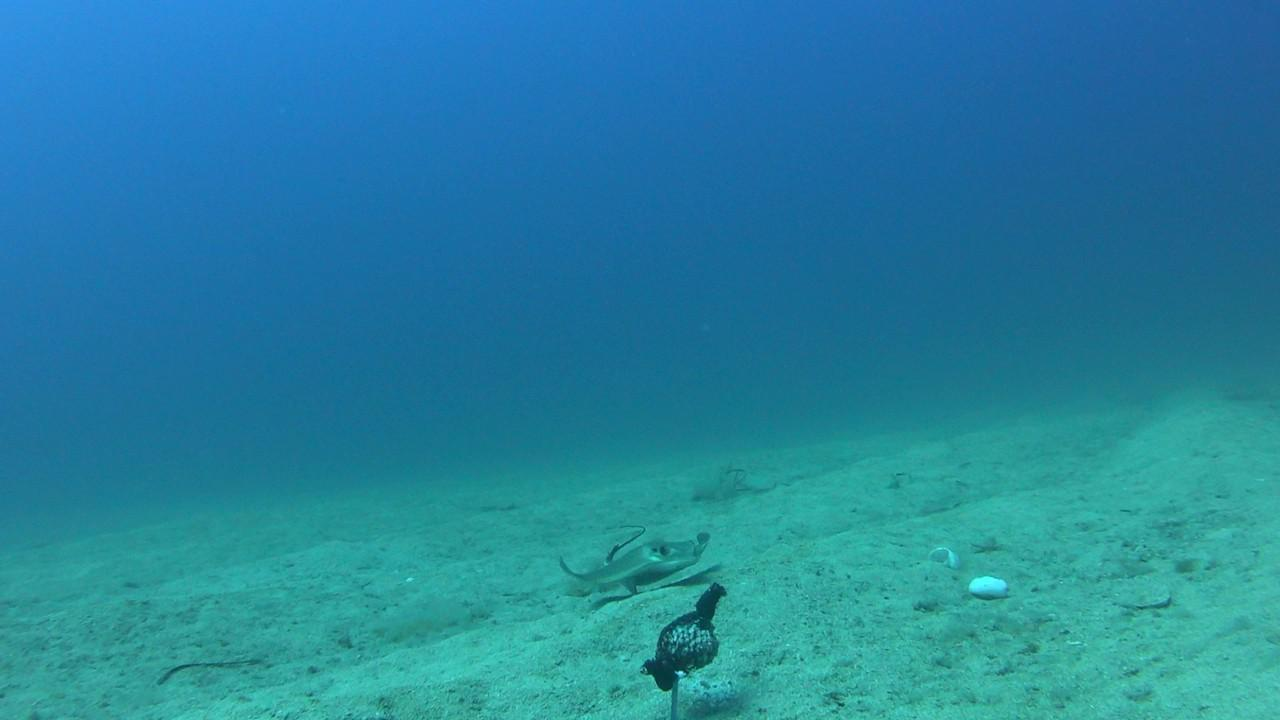myliobatis: (539, 519, 730, 596)
